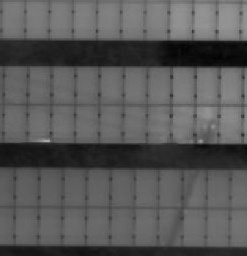solar: (23, 63, 53, 106), (49, 63, 79, 106), (72, 63, 102, 106), (97, 63, 127, 106), (120, 63, 150, 106), (144, 63, 174, 106), (169, 63, 199, 106), (192, 63, 222, 106), (215, 63, 245, 106), (216, 102, 246, 145), (191, 102, 221, 145), (168, 102, 198, 145), (143, 102, 173, 145), (119, 101, 149, 144), (96, 100, 126, 143), (72, 101, 102, 144), (48, 101, 78, 144), (24, 101, 54, 144), (13, 164, 43, 207), (36, 166, 66, 209), (59, 167, 89, 210), (83, 167, 113, 210), (107, 167, 137, 210), (132, 167, 162, 210), (155, 167, 185, 210), (179, 167, 209, 210), (203, 167, 233, 210), (203, 206, 233, 249), (179, 206, 209, 249), (155, 206, 185, 249), (132, 206, 162, 249), (107, 206, 137, 249), (82, 205, 112, 248), (60, 205, 90, 248), (36, 205, 66, 248), (11, 205, 41, 248), (215, 1, 245, 43), (190, 1, 220, 43), (166, 1, 196, 43), (142, 1, 172, 43), (119, 1, 149, 43), (94, 1, 124, 43), (71, 1, 101, 43), (46, 1, 76, 43), (23, 1, 53, 43), (1, 63, 30, 106), (1, 101, 30, 144)
